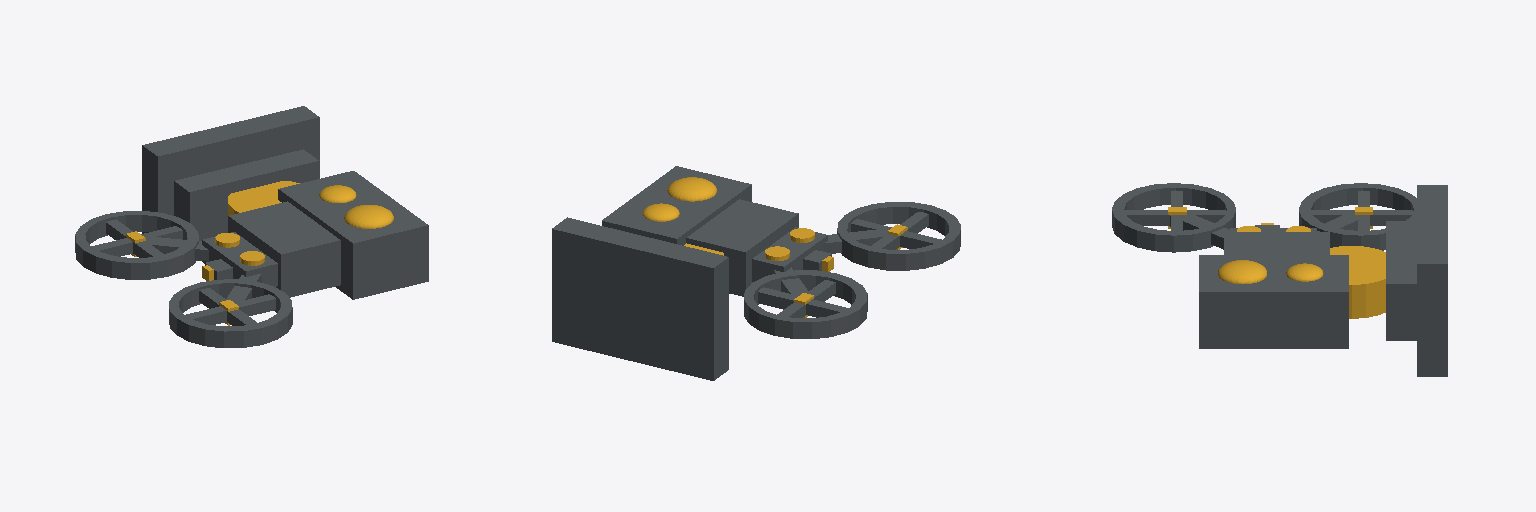
The model's file is tinker.obj.
3 renders of one model, left to right at view 1: azimuth 30°, elevation 25°; view 2: azimuth 150°, elevation 25°; view 3: azimuth 270°, elevation 25°, orthographic.
Parts seen in each view (by area): view 1: obj_0; view 2: obj_0; view 3: obj_0.
Part boxes in pixels (left/top/right/bottom): obj_0: left=75, top=106, right=428, bottom=347; obj_0: left=552, top=166, right=960, bottom=380; obj_0: left=1112, top=183, right=1447, bottom=376.
Size of the model in its own units: 49 by 20 by 54.